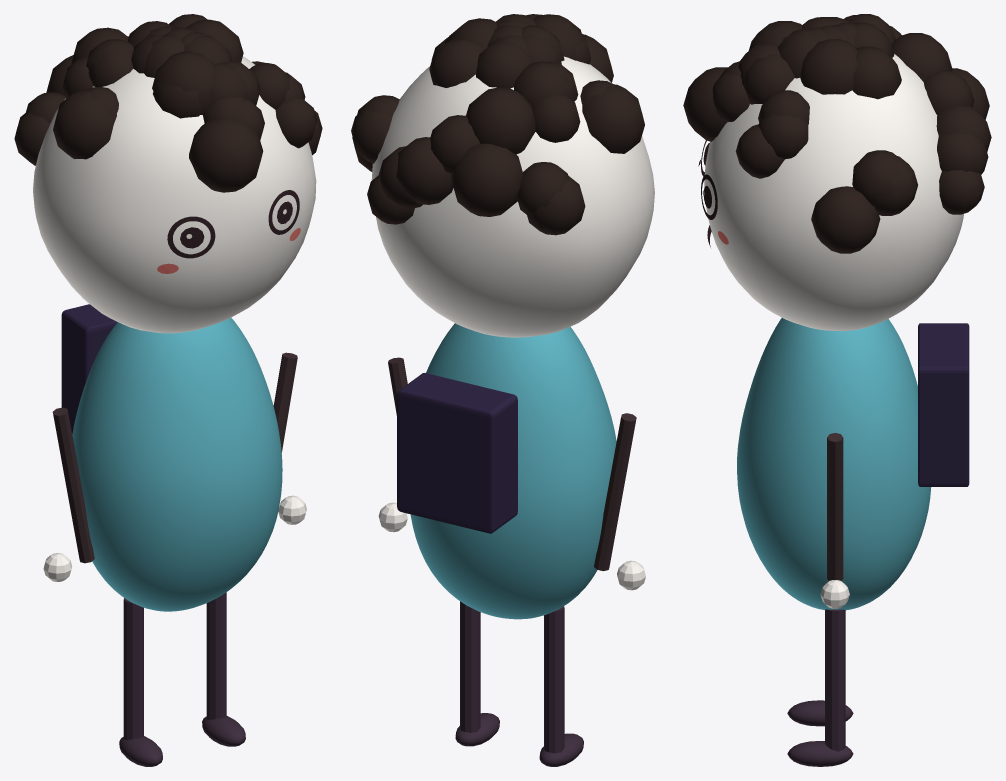
File: studente_ricci.glb
3 renders of one model, left to right at view 1: azimuth 30°, elevation 25°; view 2: azimuth 150°, elevation 25°; view 3: azimuth 270°, elevation 25°, orthographic.
Visible parts, largest first — view 1: corpo, testa, riccio.004, zaino, riccio.021, gamba_L, gamba_R, braccio_L, riccio.010, viso_ink, riccio.023, braccio_R (+22 smaller); view 2: testa, corpo, zaino, riccio.008, riccio.034, riccio.021, gamba_L, riccio.022, gamba_R, braccio_L, riccio.019, riccio.029 (+18 smaller); view 3: corpo, testa, zaino, riccio.005, gamba_R, riccio.030, braccio_R, riccio.019, riccio.004, riccio.034, riccio.024, riccio.028 (+18 smaller).
Part boxes in pixels (left/top/right/bottom): corpo: left=72, top=317, right=282, bottom=611; testa: left=33, top=56, right=316, bottom=333; riccio.004: left=189, top=119, right=263, bottom=192; zaino: left=61, top=304, right=117, bottom=433; riccio.021: left=53, top=89, right=116, bottom=159; gamba_L: left=123, top=598, right=143, bottom=740; gamba_R: left=206, top=592, right=226, bottom=719; braccio_L: left=52, top=407, right=94, bottom=563; riccio.010: left=152, top=51, right=215, bottom=114; viso_ink: left=167, top=190, right=299, bottom=258; riccio.023: left=275, top=98, right=317, bottom=148; braccio_R: left=273, top=352, right=297, bottom=452; testa: left=371, top=56, right=654, bottom=337; corpo: left=410, top=323, right=616, bottom=619; zaino: left=397, top=373, right=517, bottom=533; riccio.008: left=450, top=143, right=523, bottom=216; riccio.034: left=466, top=87, right=535, bottom=154; riccio.021: left=582, top=84, right=644, bottom=153; gamba_L: left=544, top=606, right=564, bottom=766; riccio.022: left=396, top=137, right=453, bottom=204; gamba_R: left=460, top=601, right=480, bottom=746; braccio_L: left=594, top=413, right=636, bottom=571; riccio.019: left=429, top=38, right=483, bottom=87; riccio.029: left=526, top=175, right=585, bottom=235; corpo: left=737, top=318, right=931, bottom=610; testa: left=704, top=54, right=963, bottom=330; zaino: left=918, top=323, right=969, bottom=486; riccio.005: left=811, top=186, right=880, bottom=253; gamba_R: left=825, top=609, right=845, bottom=764; riccio.030: left=800, top=39, right=857, bottom=94; braccio_R: left=827, top=433, right=843, bottom=580; riccio.019: left=852, top=46, right=901, bottom=99; riccio.004: left=683, top=67, right=727, bottom=141; riccio.034: left=891, top=33, right=952, bottom=81; riccio.024: left=852, top=150, right=902, bottom=206; riccio.028: left=937, top=133, right=988, bottom=174.
Size of what is drawn, in the model's own units: 0.8698 by 2.15 by 0.8369.
